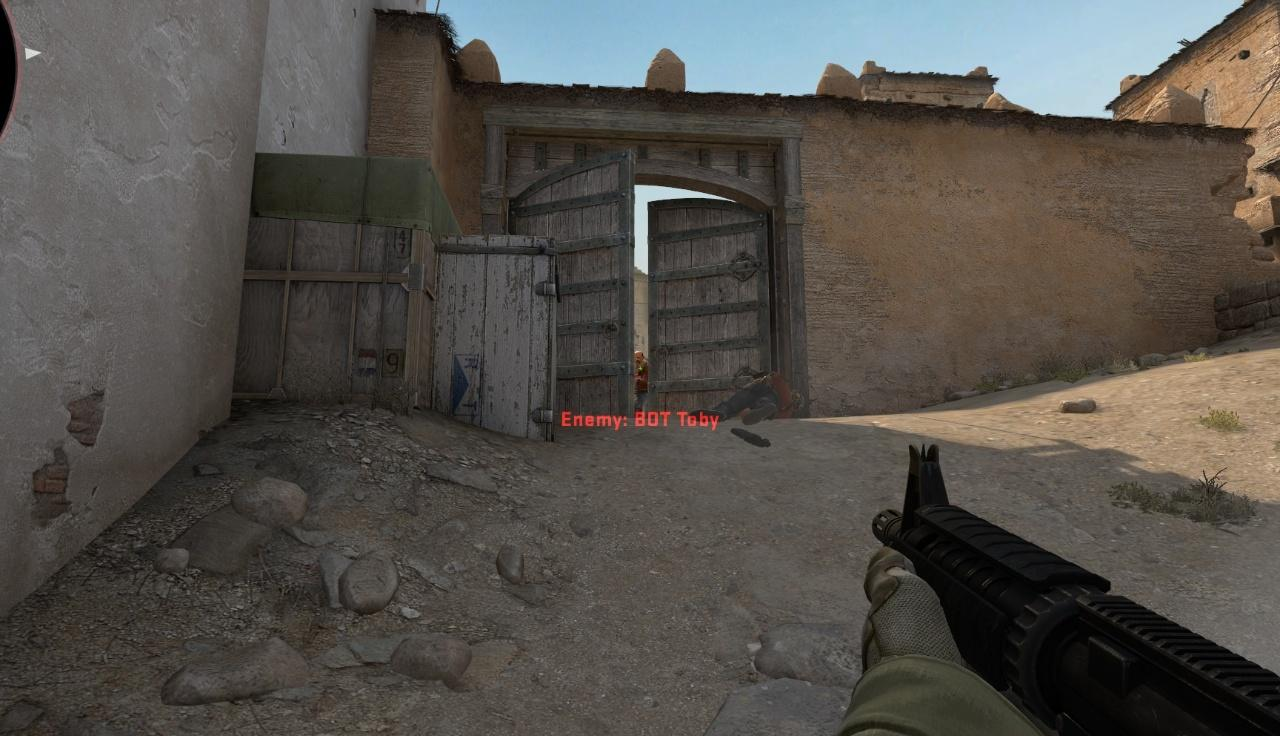rifle: (839, 443, 1280, 736)
tt: (633, 351, 650, 418)
tthead: (635, 352, 644, 365)
